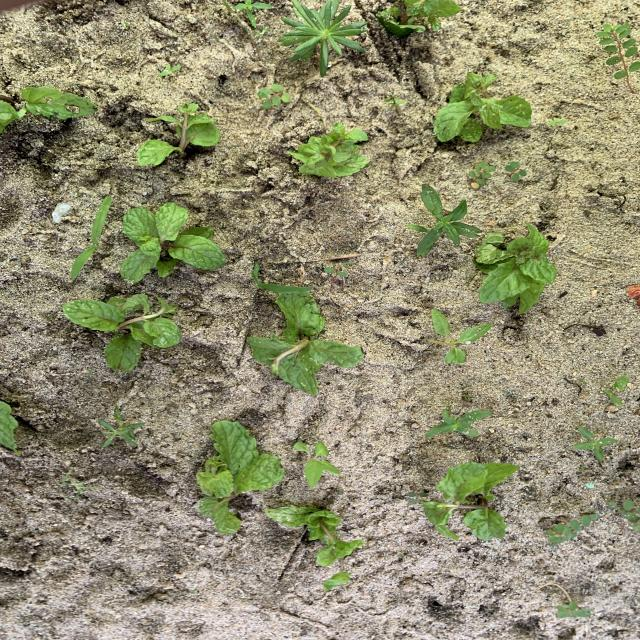crop: (247, 292, 364, 395), (197, 421, 283, 533), (63, 294, 179, 371), (265, 506, 364, 590), (121, 203, 225, 282), (420, 463, 519, 539), (475, 223, 555, 313), (433, 73, 531, 141), (139, 103, 219, 165), (1, 84, 95, 131), (1, 86, 95, 131), (289, 124, 368, 177), (379, 0, 459, 35), (1, 401, 19, 453)
weed: (282, 0, 366, 74), (405, 189, 479, 255), (428, 310, 491, 362), (71, 197, 111, 278), (596, 24, 639, 78), (293, 442, 339, 487), (252, 261, 312, 293), (426, 408, 491, 437), (547, 514, 599, 546), (573, 426, 615, 460), (101, 419, 143, 447), (235, 1, 273, 24), (612, 499, 639, 531), (258, 84, 290, 107), (604, 375, 628, 405), (67, 480, 103, 499), (556, 600, 593, 618), (468, 161, 495, 183), (505, 161, 527, 180), (324, 262, 351, 276), (407, 486, 427, 502), (159, 63, 180, 75), (385, 95, 405, 106), (549, 120, 566, 124), (577, 465, 585, 471), (337, 487, 344, 493), (585, 483, 594, 487), (87, 368, 91, 374)
